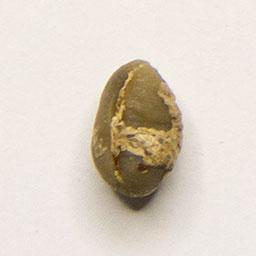peaberry: (87, 56, 185, 201)
